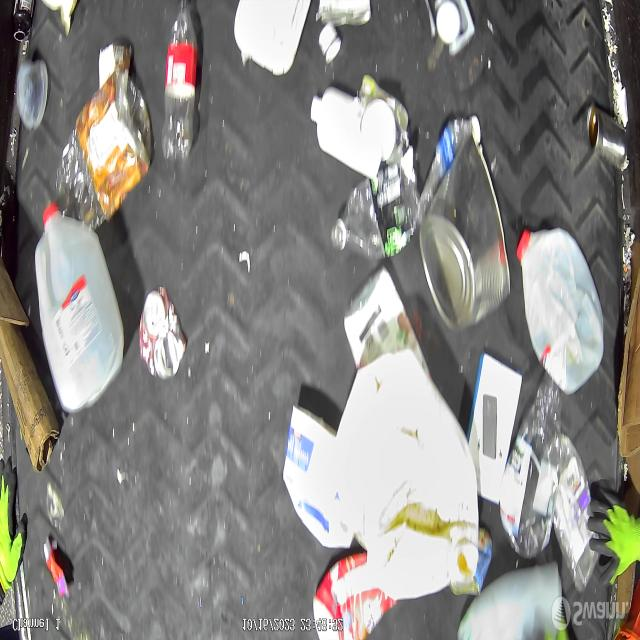can: (421, 137, 511, 329), (140, 288, 187, 377), (586, 101, 627, 169), (316, 0, 372, 28)
milk_jug: (35, 207, 124, 413), (517, 231, 606, 394), (452, 558, 564, 639)
non_white_jug: (333, 349, 479, 601), (313, 552, 398, 640)
plastic_bottle: (500, 372, 562, 560), (332, 160, 423, 261), (418, 115, 482, 224), (164, 8, 200, 165)
